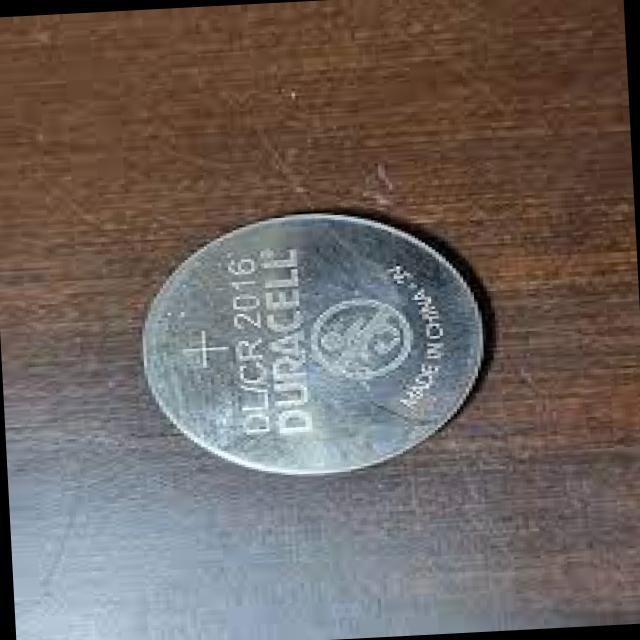COIN: (112, 192, 502, 486)
